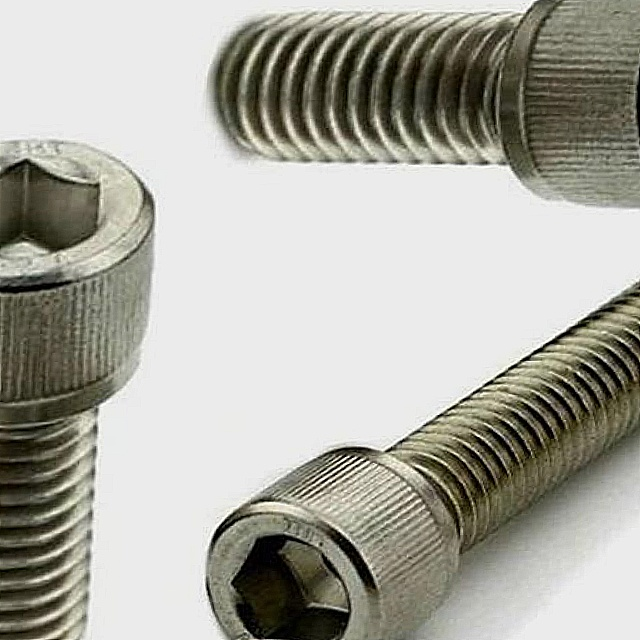allen: (0, 133, 172, 306), (198, 502, 396, 640), (618, 0, 640, 213)
